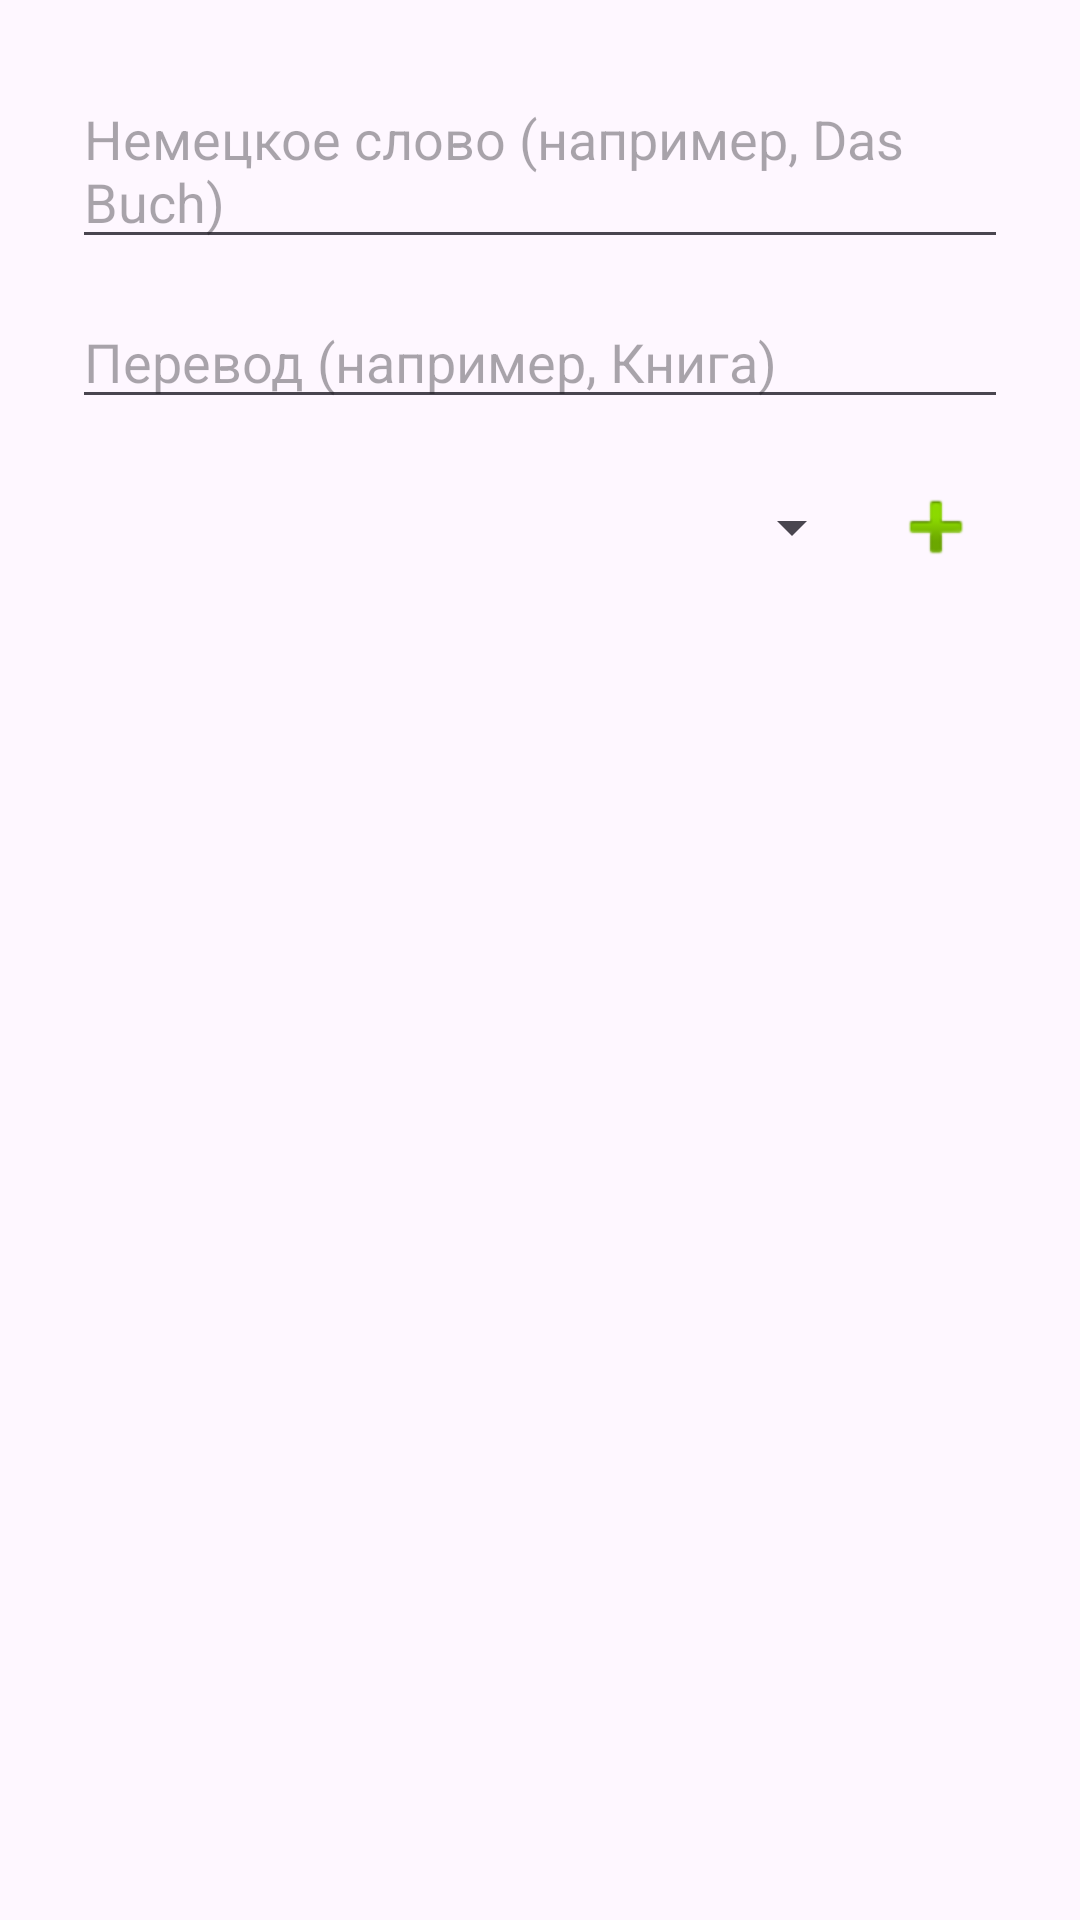

Icons on this 1080 x 1920 Android screen, each with its box as (x1, y1, x2, y2):
Добавить новую тему: (909, 500, 963, 554)
